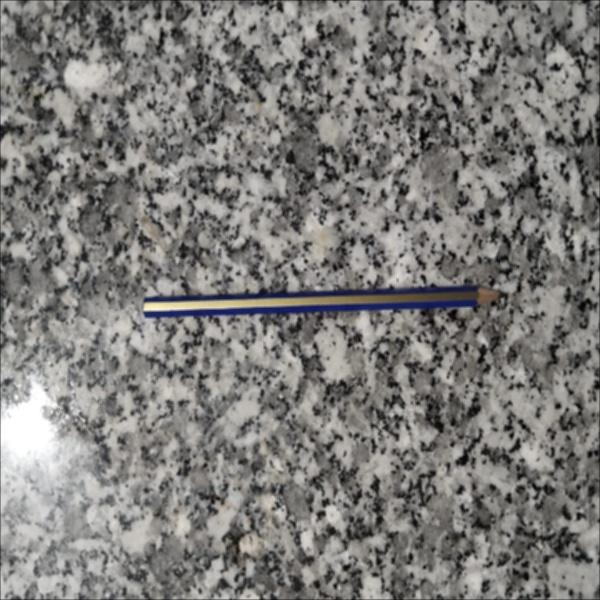pencil: (138, 282, 519, 320)
